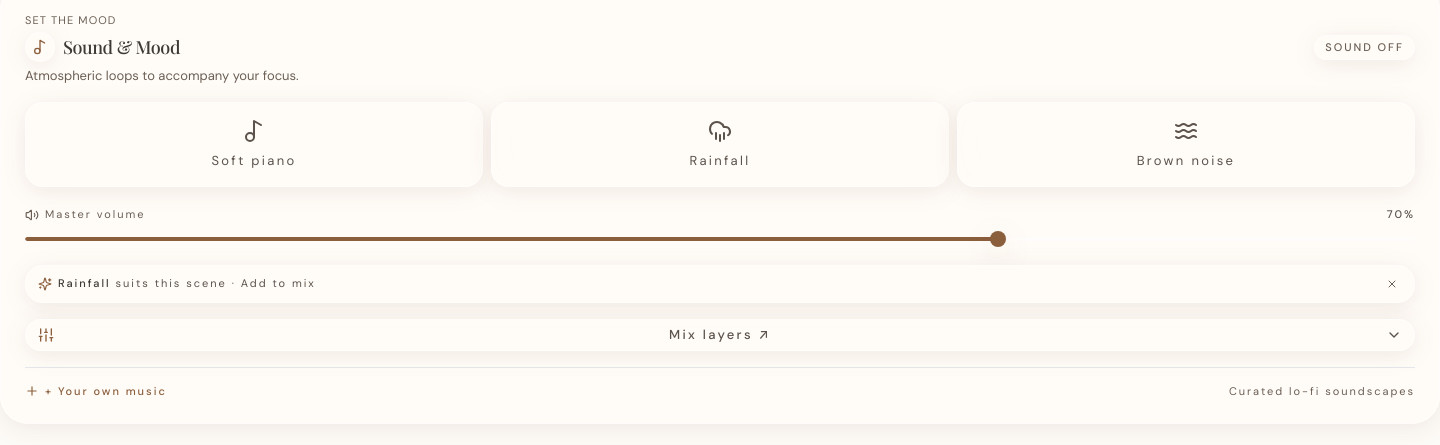
Test: SetTheMoodCard › clicking a tile sets level to 0.6 and primes audio
The width and height of the screenshot is (1440, 445).
Later steps or results of the test are not shown.
Click the button "Soft piano" at (254, 145), box left=25, top=102, right=483, bottom=187
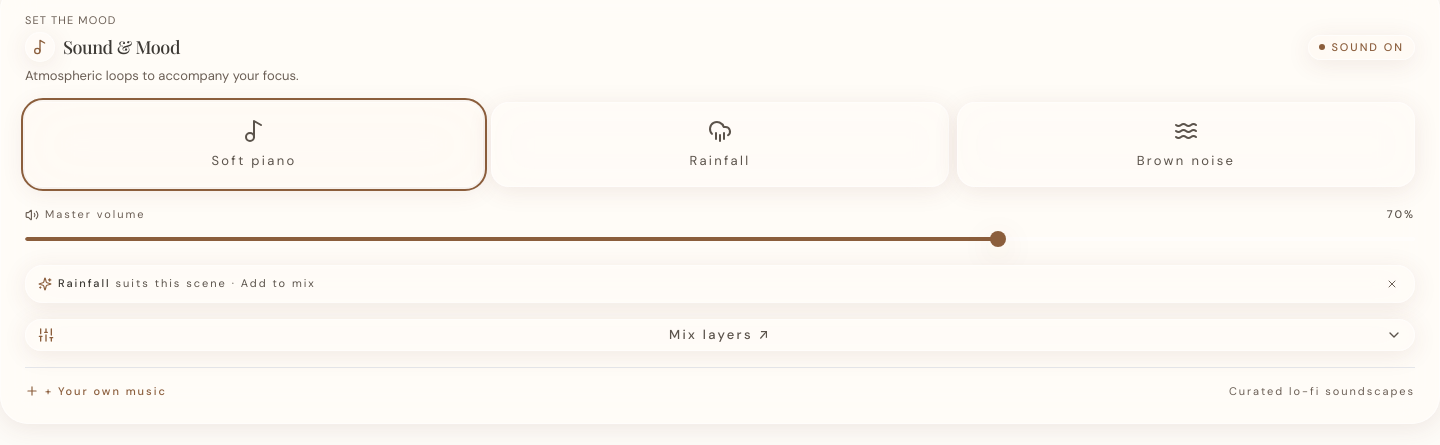
Result: the button "Soft piano" is pressed at left=25, top=102, right=483, bottom=187
